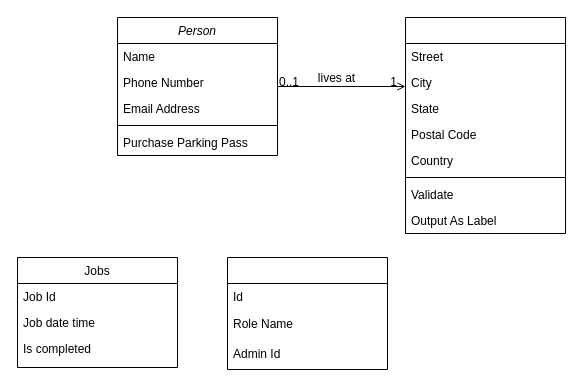
The diagram is 583 pixels wide and 387 high, and some of its shapes have lost their labels. Here are the shapes that lost their labels. From the top down, the box of each, then its label:
(404, 16, 566, 234): Address
(226, 256, 388, 370): Roles
